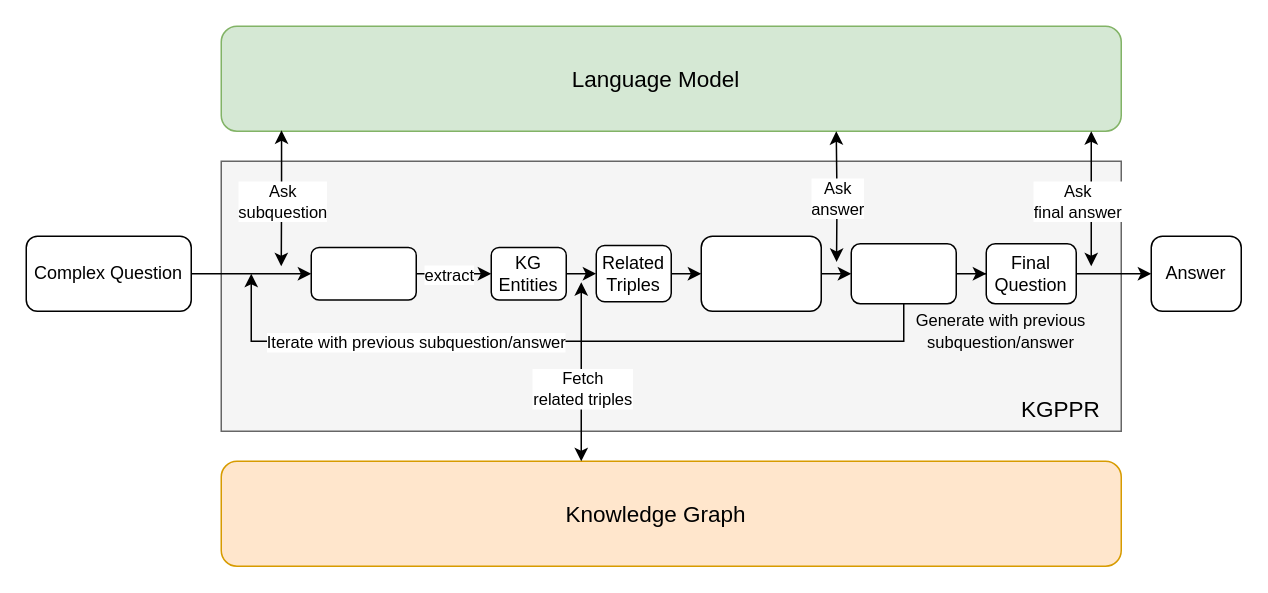
The diagram is 1268 pixels wide and 593 high, and some of its shapes have lost their labels. The shapes that lost their labels are listed below. From the top down, each one's centre as x and y in pixels, then its label:
At pixel 363 273: "Subquestion".
At pixel 760 273: "KG-Augmented Subquestion".
At pixel 903 273: "Subquestion Answer".
